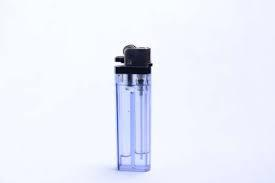lighter: (113, 46, 154, 176)
